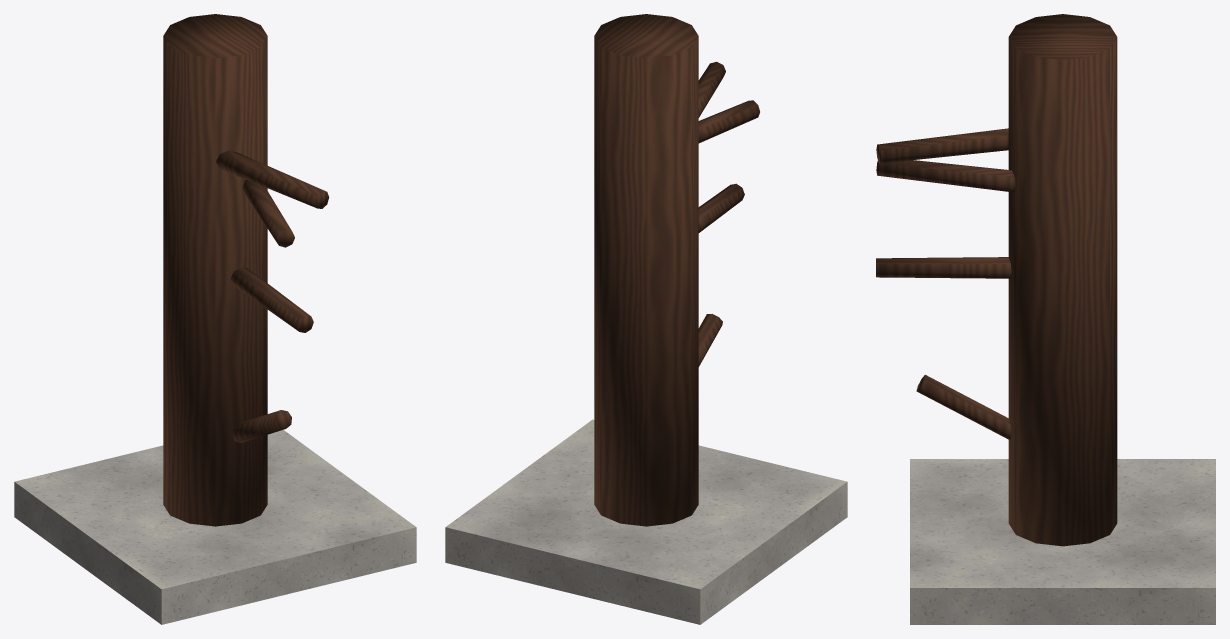
The model's file is training_dummy.glb.
3 renders of one model, left to right at view 1: azimuth 30°, elevation 25°; view 2: azimuth 150°, elevation 25°; view 3: azimuth 270°, elevation 25°, orthographic. The views are drawn at different scales.
Parts seen in each view (by area): view 1: Dummy, DummyBase; view 2: Dummy, DummyBase; view 3: Dummy, DummyBase.
Boxes of the visible parts, x1,y1,x2,y2 form: Dummy: [163, 14, 329, 526]; DummyBase: [14, 430, 416, 624]; Dummy: [594, 14, 759, 526]; DummyBase: [445, 419, 847, 624]; Dummy: [876, 14, 1117, 546]; DummyBase: [910, 459, 1215, 624].
Size of what is drawn, in the model's own units: 0.9 by 1.7 by 1.
2 materials, 2 textured.
